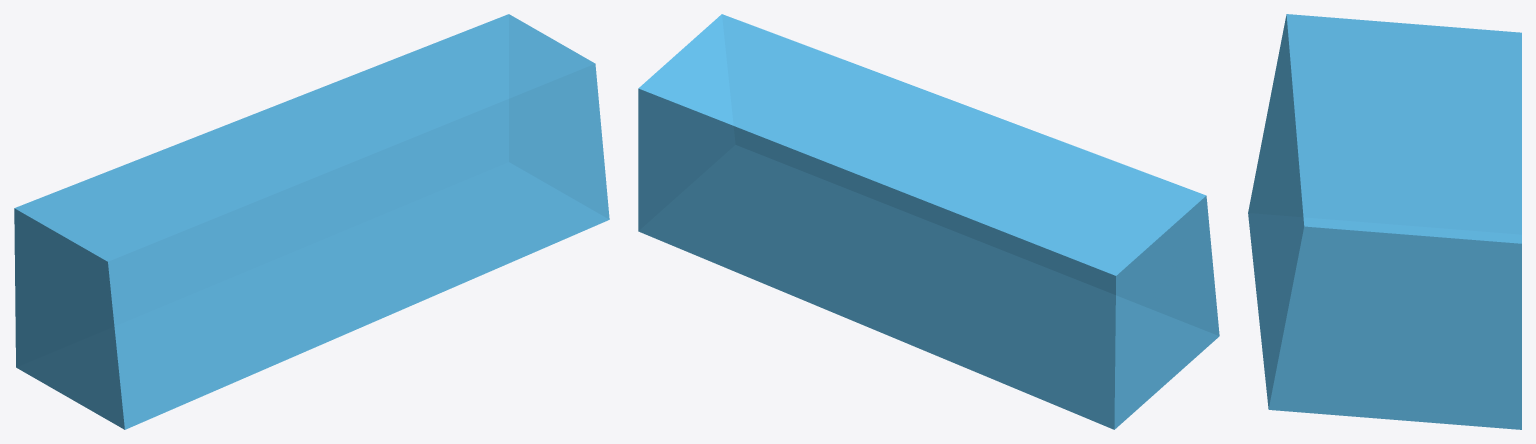
Rendered from Event_421556567_HErechit_67.fbx.
3 renders of one model, left to right at view 1: azimuth 30°, elevation 25°; view 2: azimuth 150°, elevation 25°; view 3: azimuth 270°, elevation 25°, orthographic. The views are drawn at different scales.
Visible parts, largest first — view 1: Model; view 2: Model; view 3: Model.
Boxes of the visible parts, x1,y1,x2,y2 form: Model: [14, 14, 609, 429]; Model: [638, 14, 1219, 429]; Model: [1248, 14, 1521, 429].
Size of the model in its own units: 0.9015 by 0.4302 by 0.3438.
